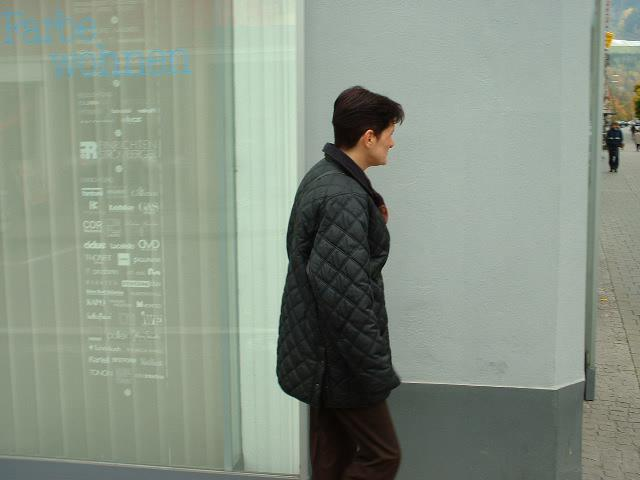Person: (279, 84, 408, 480)
